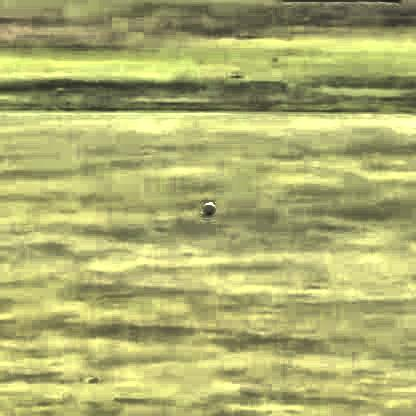golfball: (202, 195, 212, 211)
